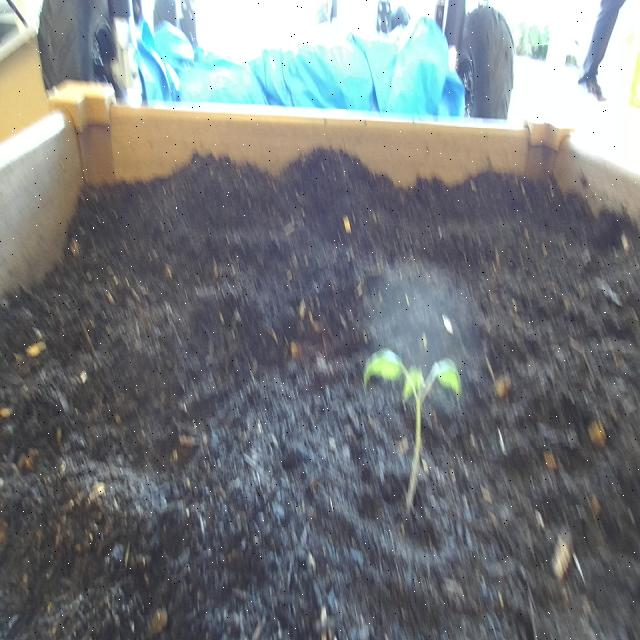Healthy: (356, 328, 467, 534)
